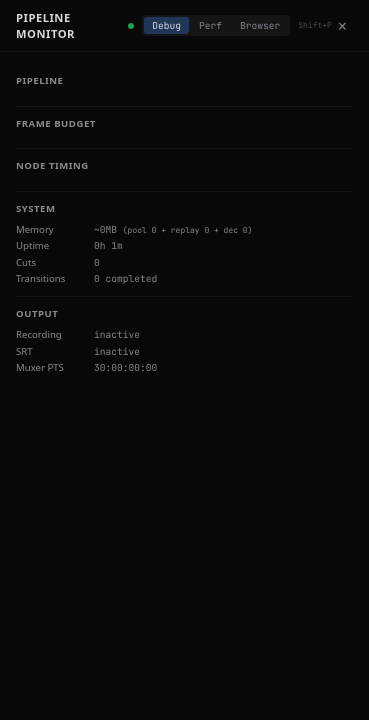
Test: StatsPanel › switches to perf view and fetches /api/perf
Note: Click Perf toggle
Click the button with class "toggle-btn" showing "Perf".
click(210, 26)  # box [191,17,230,34]
Wait 100 ms
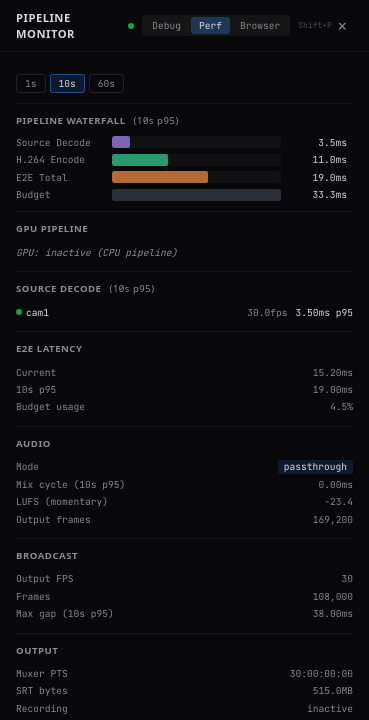
Now the element with class "stats-panel" shows "PIPELINE WATERFALL", box [16,114,126,127]
Now the element with class "stats-panel" shows "H.264 Encode", box [16,153,85,166]
Now the element with class "stats-panel" shows "E2E LATENCY", box [16,342,82,355]
